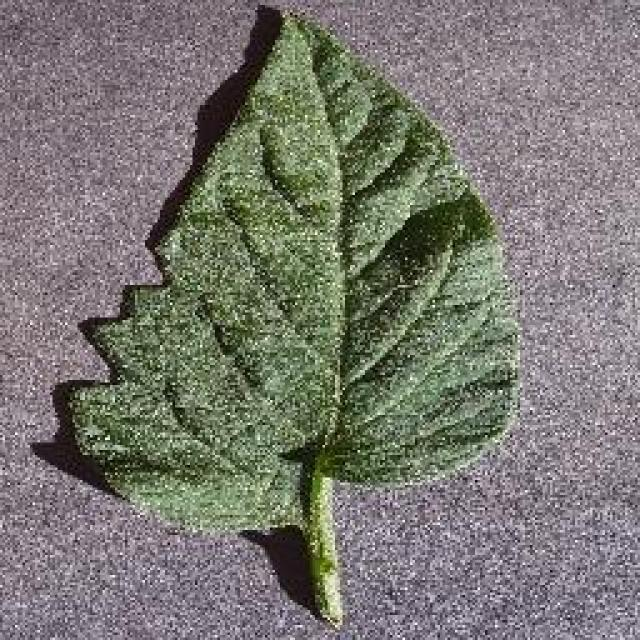Tomato_Healthy: (46, 4, 536, 553)
